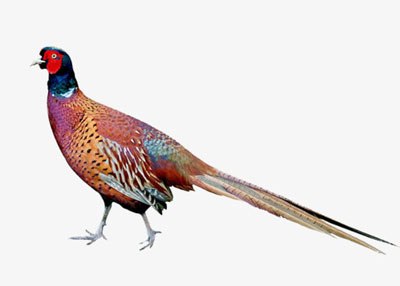pheasant: (28, 44, 328, 250)
